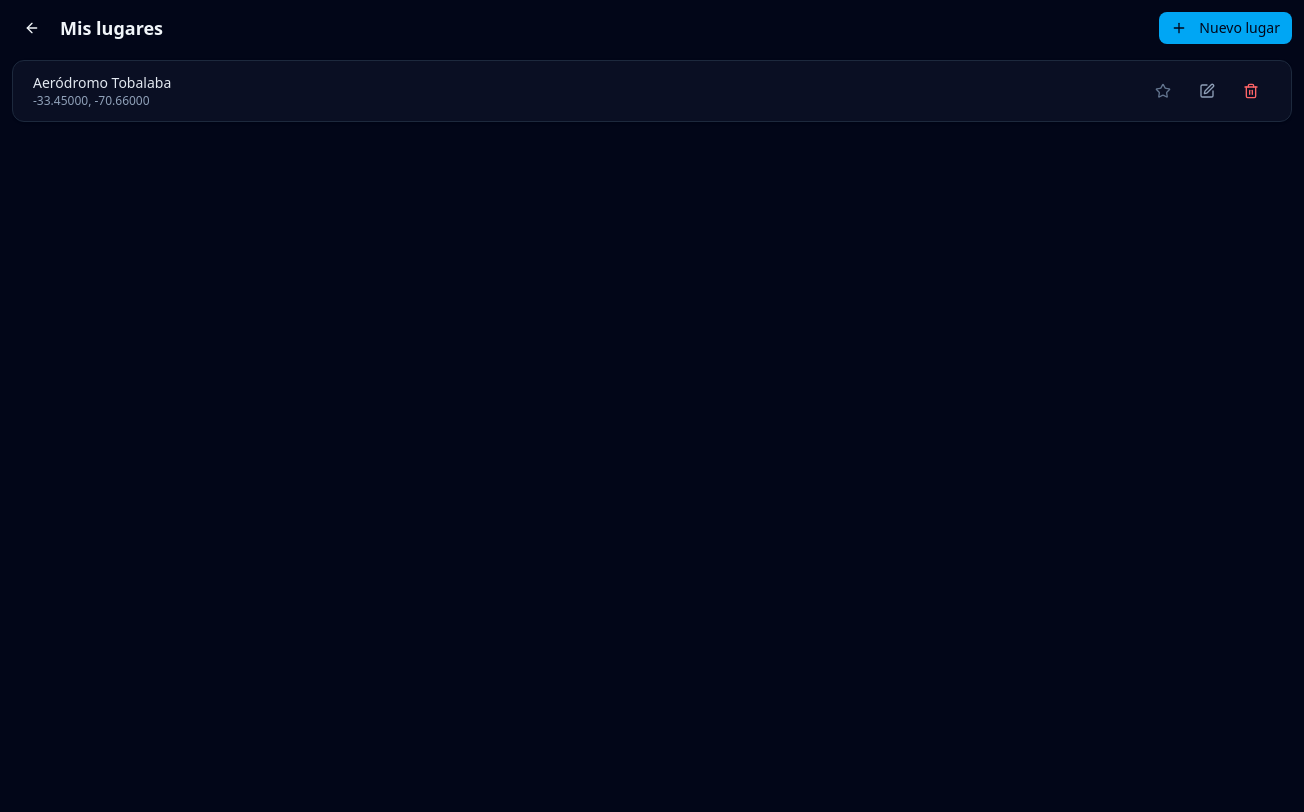
PlacesPage › toggles a favorite and reports it
Expected: the text "Aeródromo Tobalaba" is shown, left=33, top=73, right=171, bottom=93
Step 1. Click the button named "Añadido a favoritos" → (1163, 91), box left=1143, top=75, right=1183, bottom=107
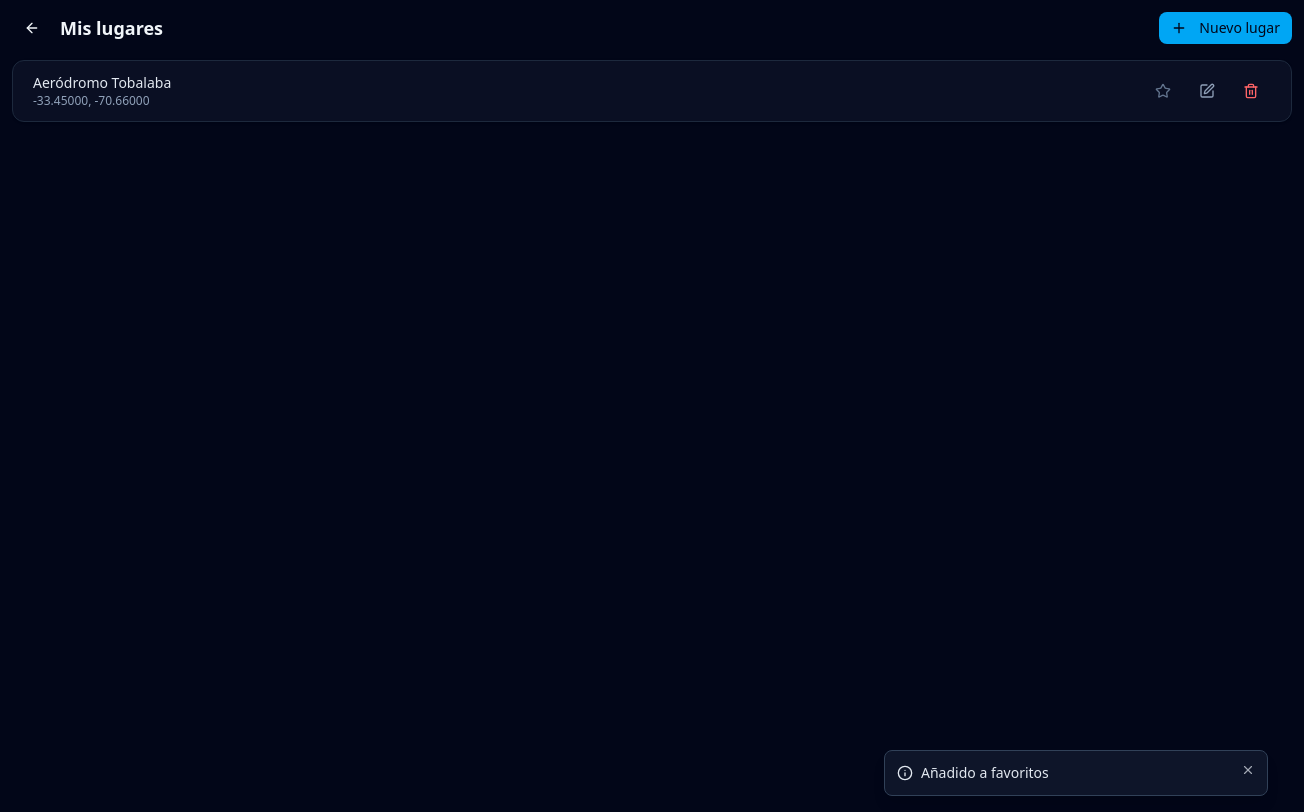
Expected: the text "Añadido a favoritos" is shown, left=921, top=763, right=1049, bottom=782
